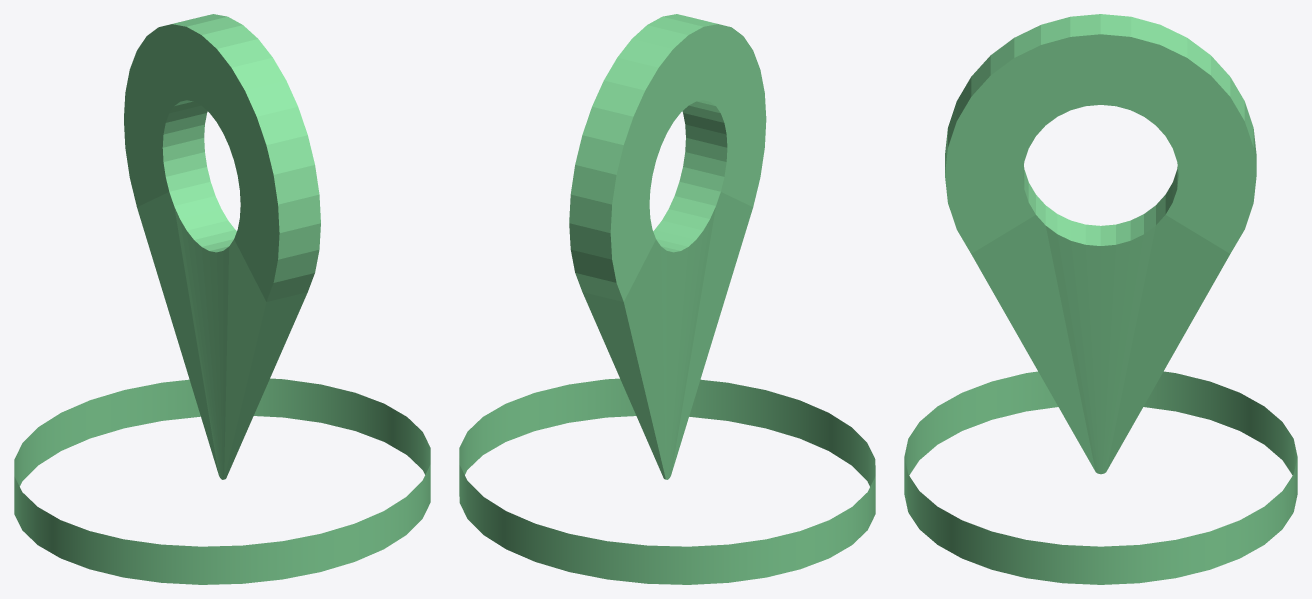
The model's file is pointsOfInterest.gltf.
3 views of the same model, side by side, from view 1: azimuth 30°, elevation 25°; view 2: azimuth 150°, elevation 25°; view 3: azimuth 270°, elevation 25° (orthographic).
Parts seen in each view (by area): view 1: Cylinder, Cylinder.001; view 2: Cylinder, Cylinder.001; view 3: Cylinder, Cylinder.001.
Part boxes in pixels (x1,y1,x2,y2): Cylinder: (124, 14, 320, 479); Cylinder.001: (14, 378, 430, 584); Cylinder: (569, 14, 766, 479); Cylinder.001: (459, 378, 875, 584); Cylinder: (945, 14, 1256, 474); Cylinder.001: (904, 371, 1297, 584).
Size of the model in its own units: 2.74 by 3.33 by 2.52.
